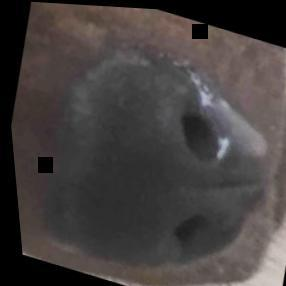nasal_discharge: (160, 80, 281, 183)
